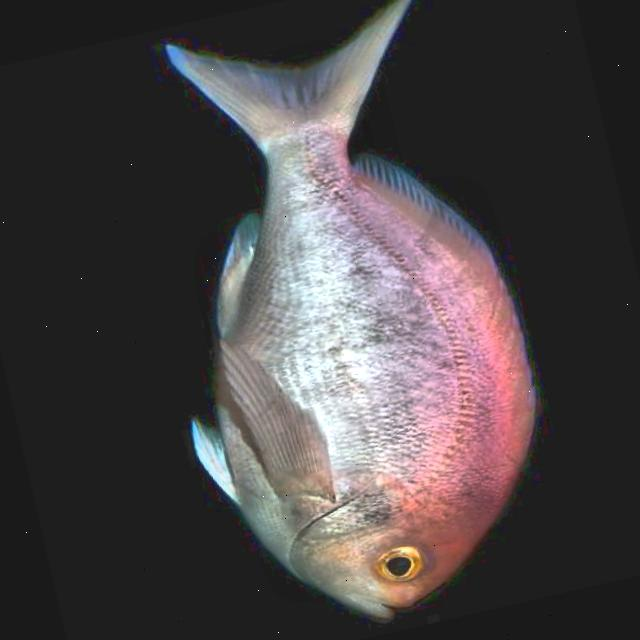fish: (98, 0, 583, 640)
